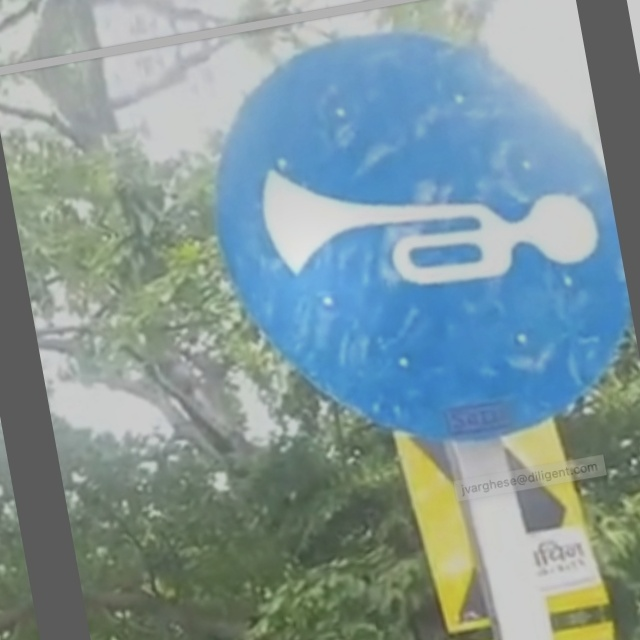Compulsory_Sound_Horn: (209, 44, 629, 427)
